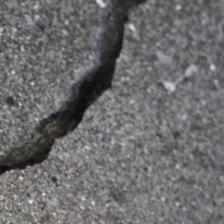Crack: (4, 5, 135, 170)
